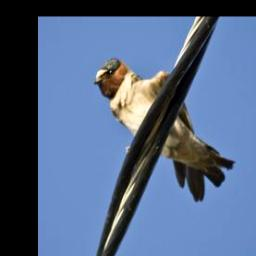Swallow: (91, 56, 236, 204)
